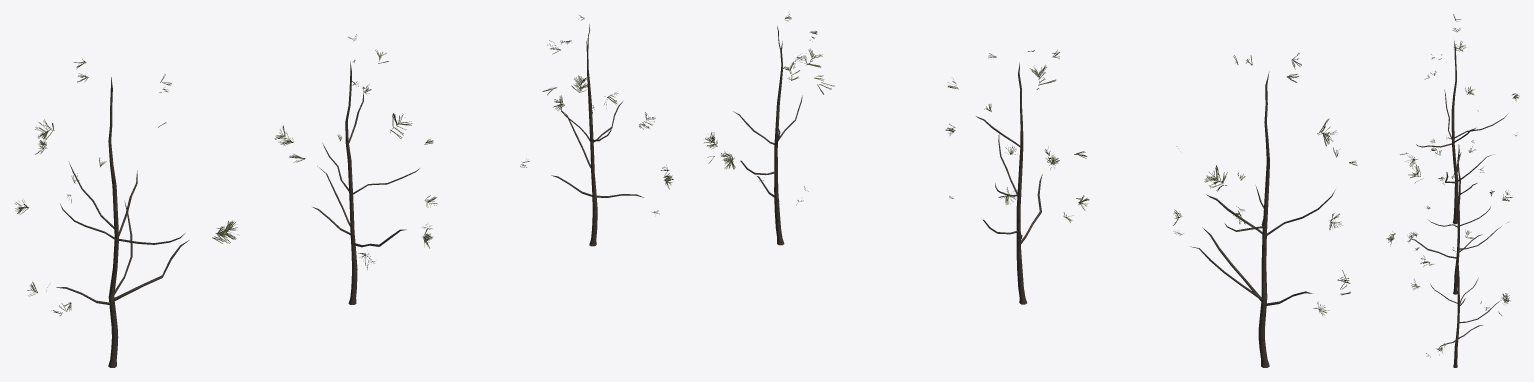
The model's file is pine_sapling.glb.
The picture shows the model from 3 angles, left to right: view 1: azimuth 30°, elevation 25°; view 2: azimuth 150°, elevation 25°; view 3: azimuth 270°, elevation 25°; orthographic projection. The views are drawn at different scales.
Visible parts, largest first — view 1: pine_sapling_small_a, pine_sapling_small_b, pine_sapling_small_c; view 2: pine_sapling_small_a, pine_sapling_small_b, pine_sapling_small_c; view 3: pine_sapling_small_a, pine_sapling_small_b, pine_sapling_small_c.
Part boxes in pixels (left/top/right/bottom): pine_sapling_small_a: left=14, top=59, right=239, bottom=367; pine_sapling_small_b: left=274, top=34, right=437, bottom=304; pine_sapling_small_c: left=520, top=15, right=673, bottom=246; pine_sapling_small_a: left=1173, top=53, right=1357, bottom=367; pine_sapling_small_b: left=945, top=50, right=1089, bottom=304; pine_sapling_small_c: left=704, top=14, right=834, bottom=245; pine_sapling_small_a: left=1400, top=14, right=1519, bottom=223; pine_sapling_small_b: left=1386, top=137, right=1512, bottom=294; pine_sapling_small_c: left=1411, top=220, right=1510, bottom=367.
Size of the model in its own units: 2.64 by 1.26 by 0.7697.
2 materials, 2 textured.
